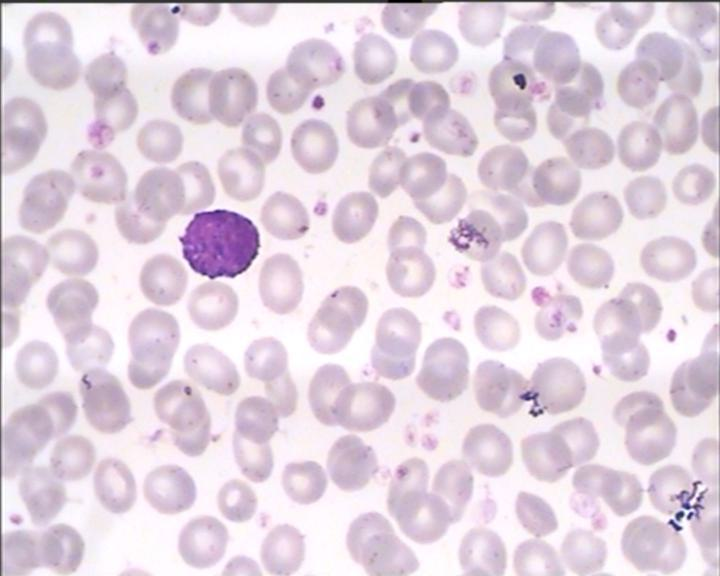baso: (174, 203, 262, 280)
